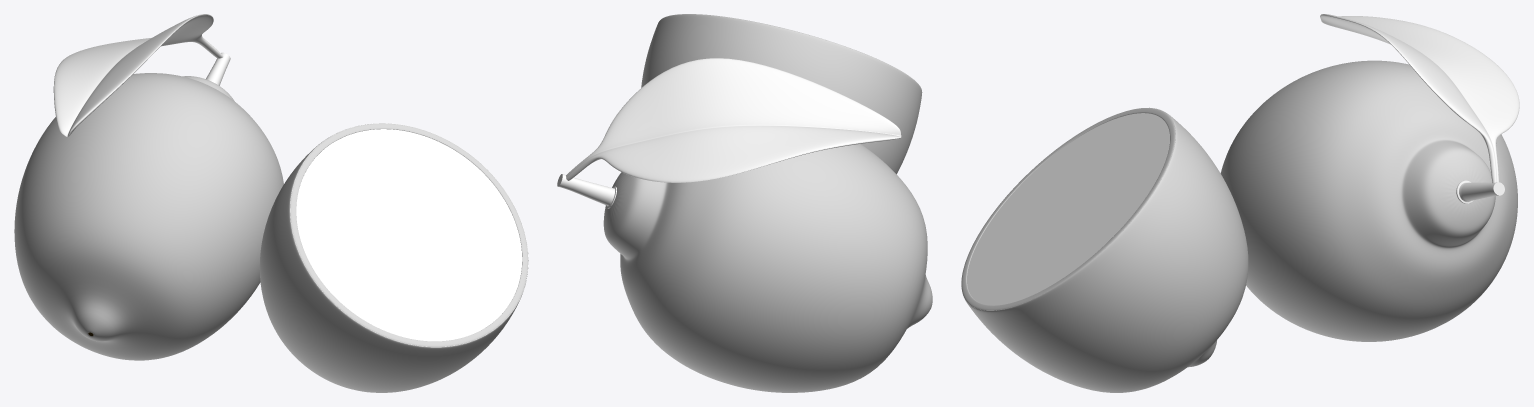
Rendered from Lemon.glb.
3 renders of one model, left to right at view 1: azimuth 30°, elevation 25°; view 2: azimuth 150°, elevation 25°; view 3: azimuth 270°, elevation 25°, orthographic. The views are drawn at different scales.
Visible parts, largest first — view 1: Sphere.016, Sphere.182, Sphere.017, Cylinder.014; view 2: Sphere.016, Cylinder.014, Sphere.017, Cylinder.011; view 3: Sphere.016, Sphere.017, Sphere.182, Cylinder.014, Cylinder.011.
Part boxes in pixels (x1,y1,x2,y2): Sphere.016: [14, 73, 283, 360]; Sphere.182: [290, 123, 528, 347]; Sphere.017: [259, 123, 528, 392]; Cylinder.014: [53, 14, 223, 136]; Sphere.016: [603, 144, 932, 392]; Cylinder.014: [566, 58, 901, 182]; Sphere.017: [641, 14, 922, 174]; Cylinder.011: [557, 174, 616, 208]; Sphere.016: [1220, 60, 1517, 341]; Sphere.017: [961, 108, 1248, 392]; Sphere.182: [961, 107, 1175, 310]; Cylinder.014: [1320, 14, 1519, 183]; Cylinder.011: [1456, 180, 1504, 203].
Bounding box in the file's own units: 6.03 × 4.8 × 7.57.
5 materials, 1 textured.
